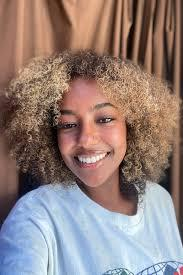Persons: (17, 42, 154, 205)
